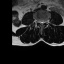CCS_stenosis: (41, 19, 42, 27)
LFS_normal: (44, 19, 46, 25)
LLS_normal: (42, 19, 44, 26)
RFS_stenosis: (37, 19, 39, 24)
RLS_normal: (39, 19, 41, 25)
